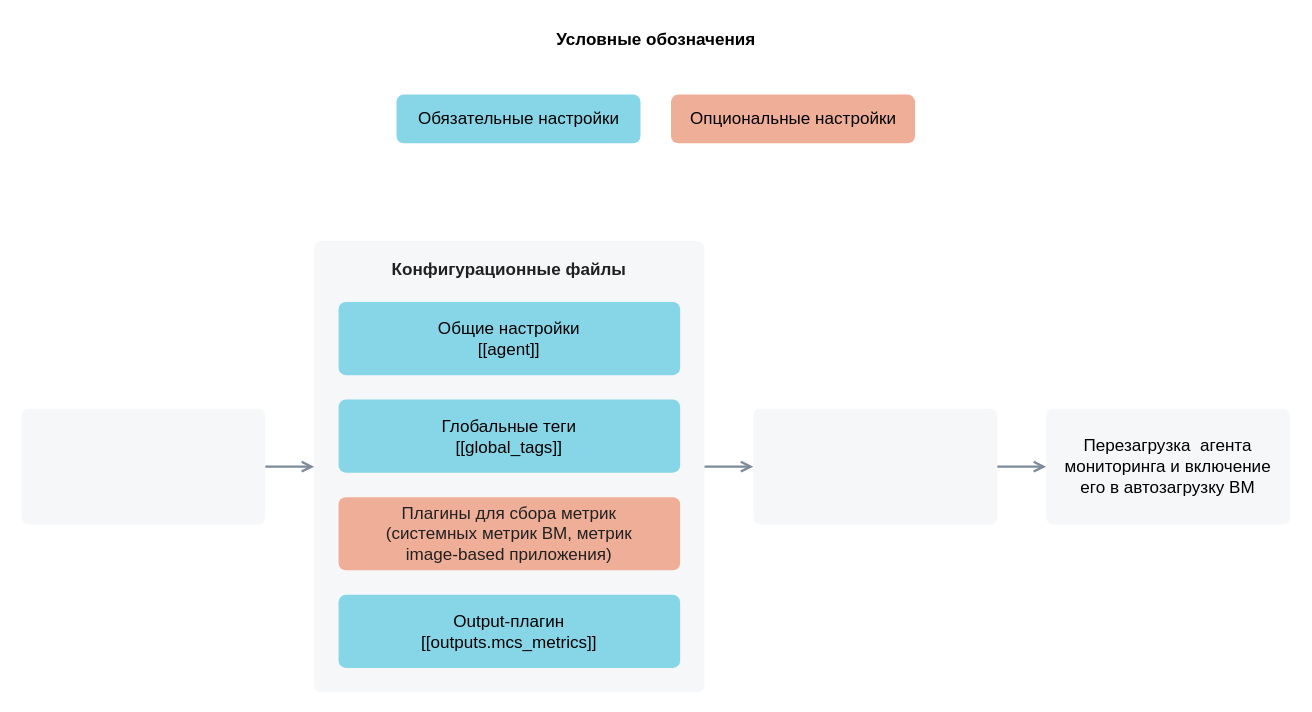
Some shapes in this 1312 by 712 pixel diagram are drawn without their labels. The shapes that lost their labels are listed below. From the top down, each one's centre as x and y in pixels, then its label:
the point at 143,466: Установка агента мониторинга
the point at 875,466: Назначение владельца и группы на конфигурационные файлы
